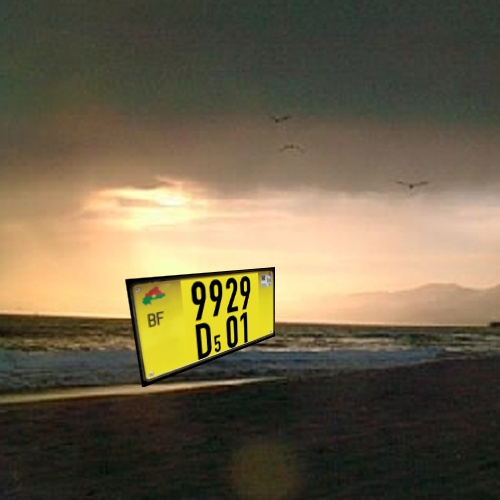plate: (115, 257, 291, 396)
